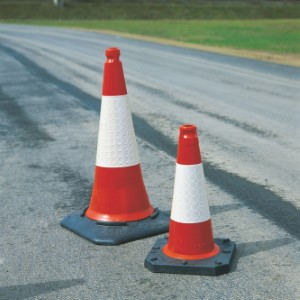traffic cone: (59, 47, 175, 246), (143, 124, 236, 277)
